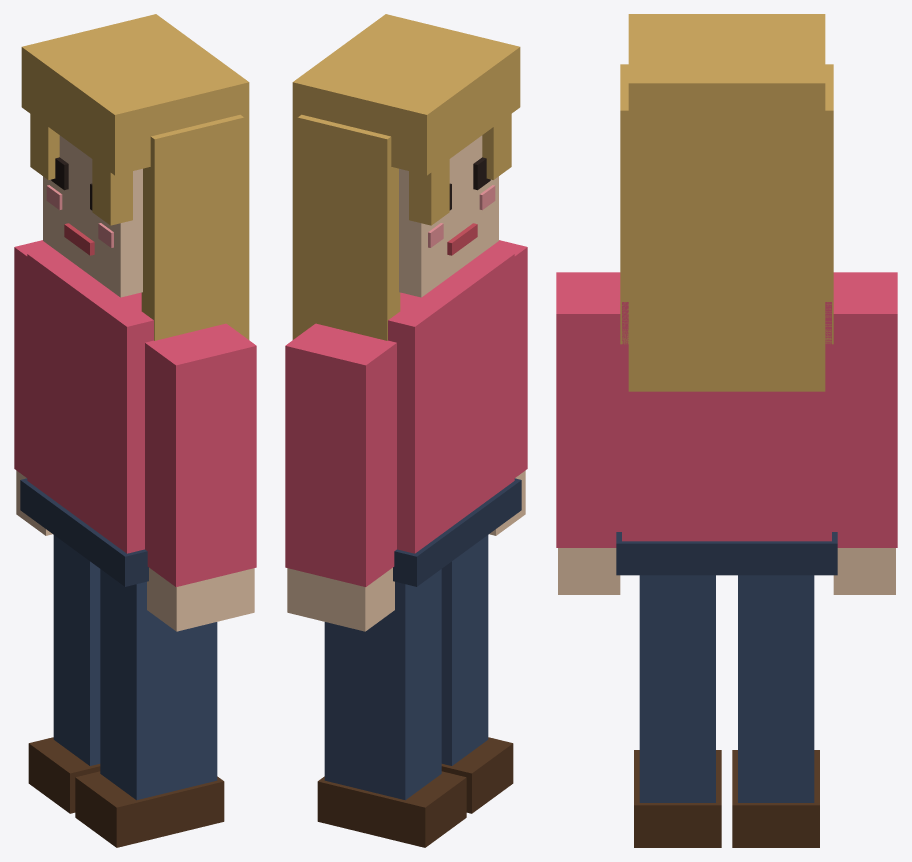
File: kowalskis_mom.glb
3 views of the same model, side by side, from view 1: azimuth 30°, elevation 25°; view 2: azimuth 150°, elevation 25°; view 3: azimuth 270°, elevation 25° (orthographic). The views are drawn at different scales.
Parts seen in each view (by area): view 1: Box9, Box3, Box22, Box1, Box24, Box5, Box12, Box2, Box4, Box10, Box7, Box6 (+5 smaller); view 2: Box9, Box7, Box22, Box5, Box26, Box1, Box12, Box6, Box8, Box10, Box3, Box2 (+5 smaller); view 3: Box23, Box9, Box22, Box3, Box7, Box1, Box5, Box10, Box2, Box6, Box4, Box8 (+2 smaller).
Boxes of the visible parts, x1,y1,x2,y2 form: Box9: [27, 248, 153, 553]; Box3: [145, 323, 256, 586]; Box22: [21, 14, 249, 175]; Box1: [100, 569, 217, 800]; Box24: [141, 114, 244, 340]; Box5: [53, 535, 100, 765]; Box12: [43, 135, 142, 297]; Box2: [75, 771, 224, 847]; Box4: [147, 567, 254, 631]; Box10: [20, 478, 148, 586]; Box7: [14, 240, 51, 477]; Box6: [28, 737, 100, 813]; Box9: [388, 248, 514, 553]; Box7: [285, 323, 396, 586]; Box22: [292, 14, 520, 175]; Box5: [324, 569, 441, 800]; Box26: [297, 114, 400, 340]; Box1: [441, 535, 488, 765]; Box12: [399, 135, 498, 297]; Box6: [317, 771, 466, 847]; Box8: [287, 567, 394, 631]; Box10: [393, 478, 521, 586]; Box3: [490, 240, 527, 477]; Box2: [441, 737, 513, 813]; Box23: [628, 115, 825, 391]; Box9: [622, 302, 831, 541]; Box22: [628, 14, 825, 146]; Box3: [556, 272, 621, 547]; Box7: [832, 272, 897, 547]; Box1: [639, 575, 715, 802]; Box5: [738, 575, 814, 802]; Box10: [616, 532, 837, 575]; Box2: [634, 750, 721, 847]; Box6: [732, 750, 819, 847]; Box4: [558, 548, 620, 594]; Box8: [833, 548, 895, 594].
Size of the model in its own units: 0.3402 by 1.78 by 0.7088.
